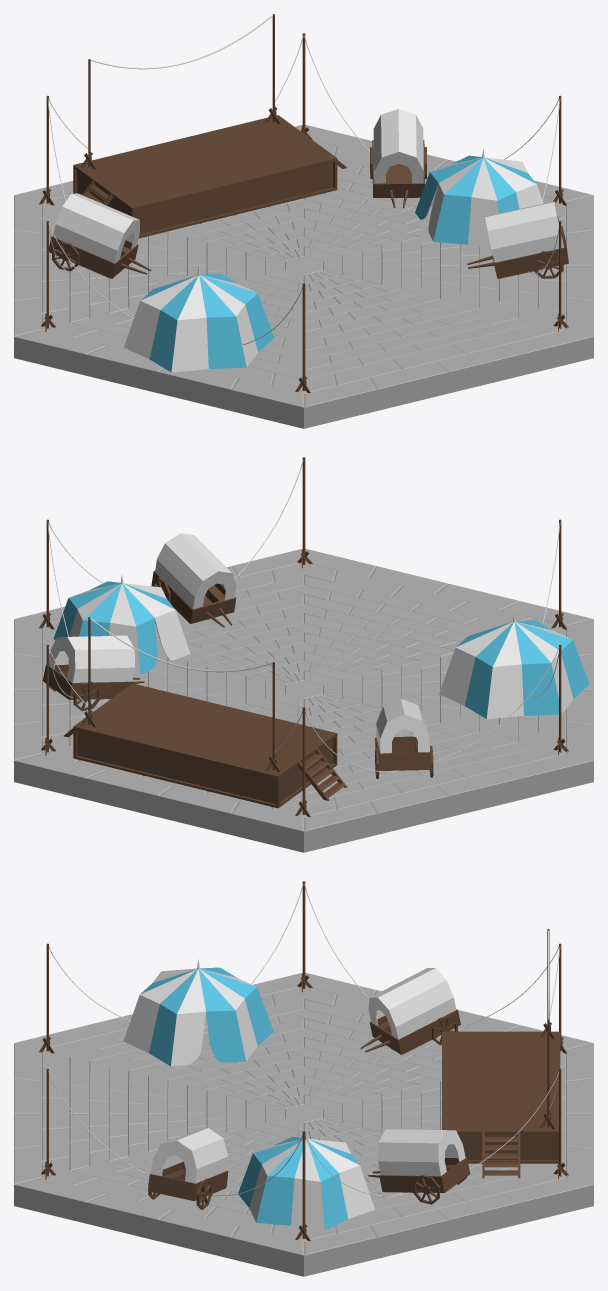
The model's file is Festival.fbx.
3 views of the same model, one above another, from view 1: azimuth 30°, elevation 25°; view 2: azimuth 150°, elevation 25°; view 3: azimuth 270°, elevation 25° (orthographic).
Parts seen in each view (by area): view 1: Festival; view 2: Festival; view 3: Festival.
Part boxes in pixels (<box>): Festival: <box>14,14,593,428</box>; Festival: <box>14,457,593,852</box>; Festival: <box>14,881,593,1276</box>.
Size of the model in its own units: 1132 by 980 by 300.
